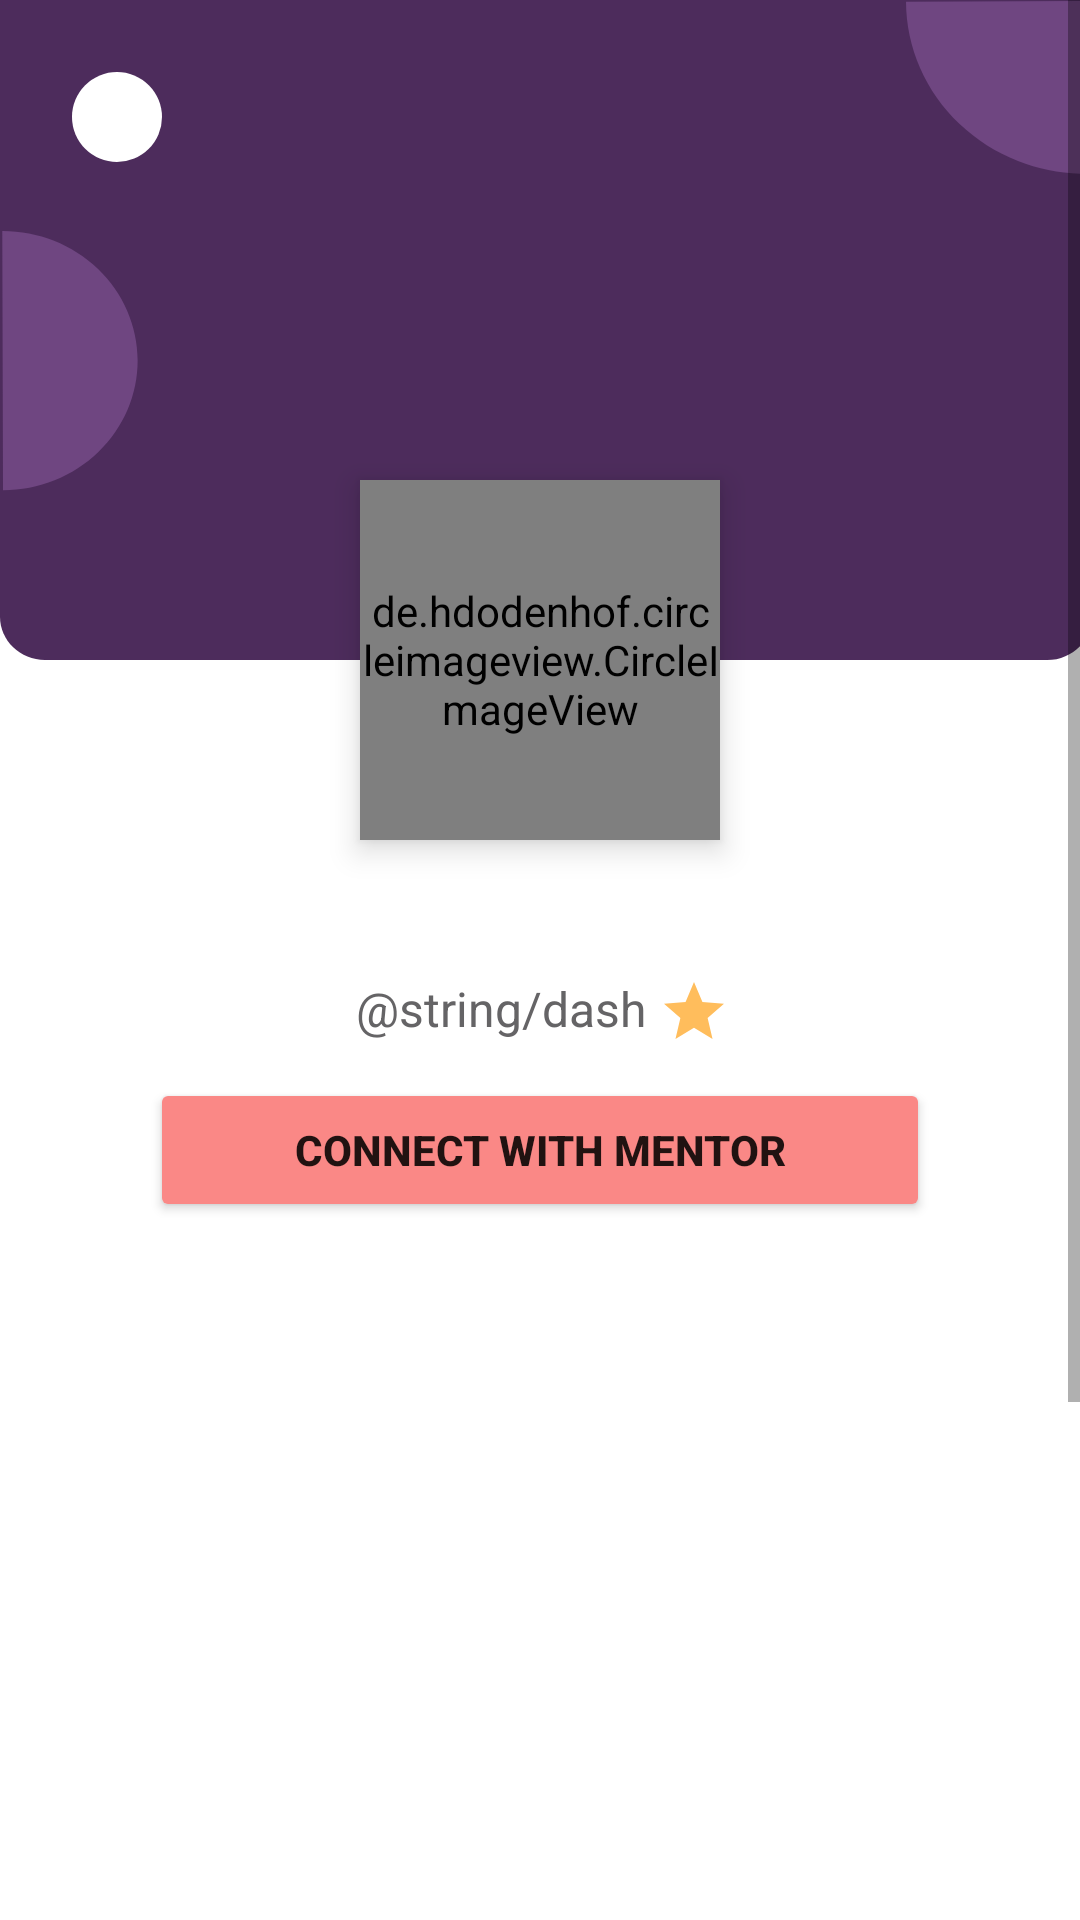

Named icons in this screenshot (1080w x 1920h) and their bounding boxes, BBox(x1, y1, x2, y2):
star: BBox(664, 982, 724, 1039)
